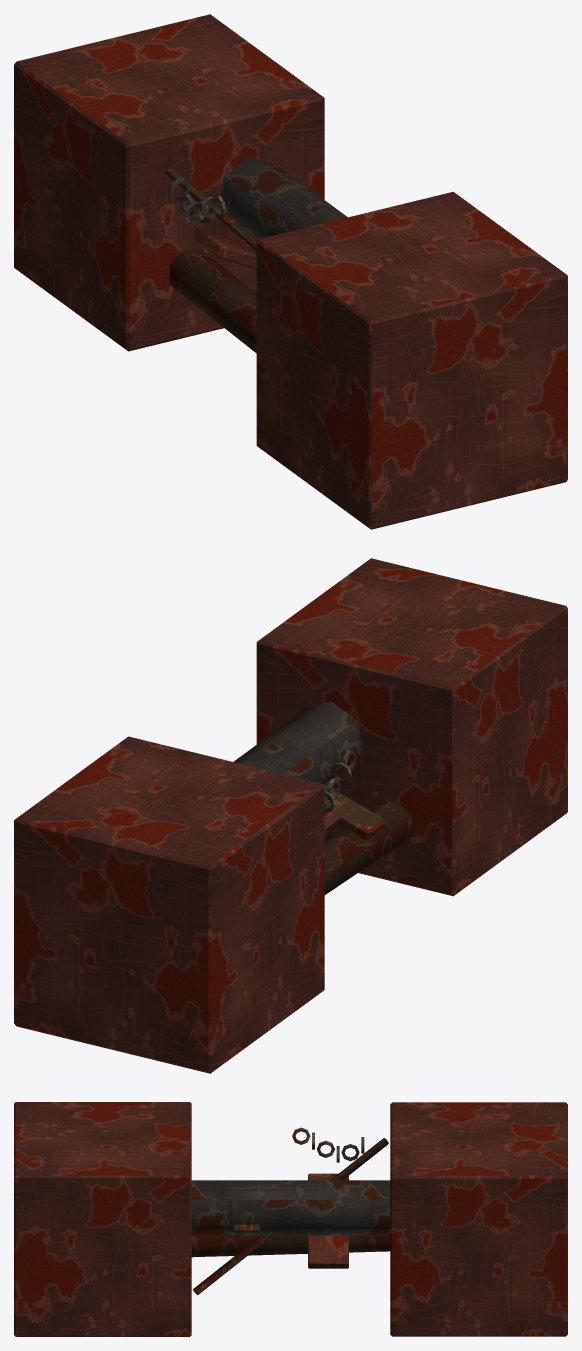
Rendered from R4C_STRUT_STANDARD_LOD1.glb.
3 views of the same model, one above another, from view 1: azimuth 30°, elevation 25°; view 2: azimuth 150°, elevation 25°; view 3: azimuth 270°, elevation 25° (orthographic). The views are drawn at different scales.
Parts seen in each view (by area): view 1: R4C_STRUT_STANDARD_LOD1; view 2: R4C_STRUT_STANDARD_LOD1; view 3: R4C_STRUT_STANDARD_LOD1.
Part boxes in pixels (box(x1,y1,x2,y2)): R4C_STRUT_STANDARD_LOD1: box(14, 14, 567, 529); R4C_STRUT_STANDARD_LOD1: box(14, 558, 567, 1073); R4C_STRUT_STANDARD_LOD1: box(14, 1102, 567, 1336).
Size of the model in its own units: 0.52 by 0.52 by 1.62.
3 materials, 3 textured.
